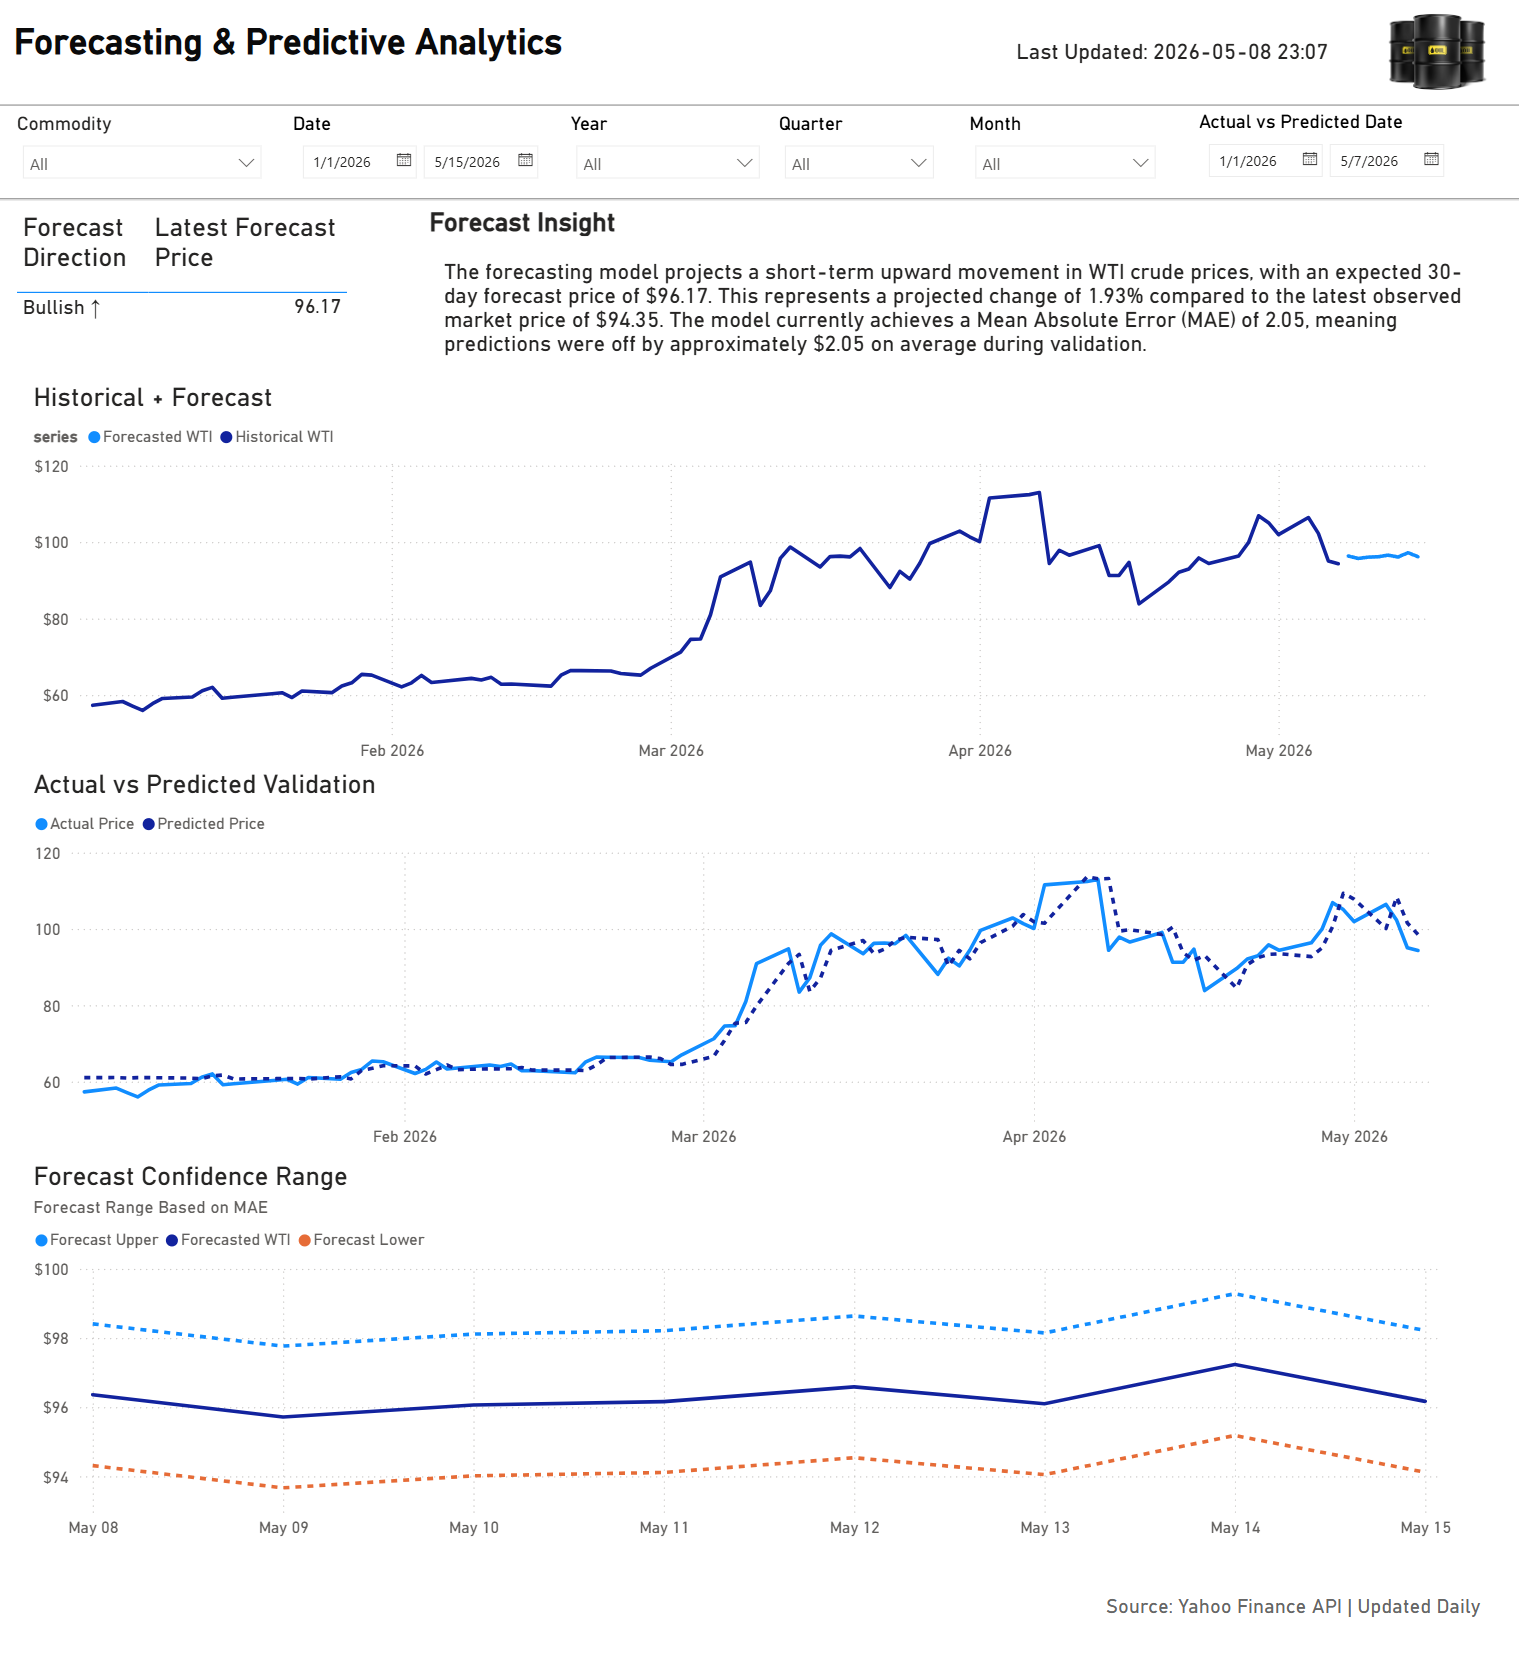

Layout of this report page (visuals, bound fields, positions):
{"tool":"powerbi","page":{"name":"Forecasting","canvas":[1280,1400],"ordinal":4},"visuals":[{"type":"shape","box":[0,167.1,1280,1232.9],"z":0},{"type":"image","box":[1126.2,0,153.8,90],"z":1000},{"type":"shape","box":[0,0,1280,90],"z":2000},{"type":"shape","box":[0,88.8,1280,79],"z":3000},{"type":"slicer","title":"Date","fields":{"Values":["dim_forecast_date.full_date"]},"box":[242.8,94.7,218.3,63.3],"z":4000},{"type":"slicer","title":"Commodity","fields":{"Values":["dim_commodity.commodity_name"]},"box":[12,94.7,218.6,62.9],"z":5000},{"type":"textbox","title":"Forecasting & Predictive Analytics","box":[10,18.3,718.3,40],"z":6000},{"type":"slicer","title":"Year","fields":{"Values":["dim_forecast_date.year"]},"box":[473.8,95,172.5,62.5],"z":7000},{"type":"slicer","title":"Quarter","fields":{"Values":["dim_forecast_date.quarter"]},"box":[647.2,95,143.8,62.5],"z":8000},{"type":"slicer","title":"Month","fields":{"Values":["dim_forecast_date.month_name"]},"box":[806,95,170,62.5],"z":9000},{"type":"cardVisual","fields":{"Data":["Indicators.Last Refresh"]},"box":[821.2,15,331.2,57.5],"z":10000},{"type":"textbox","title":"Source: Yahoo Finance API | Updated Daily","box":[920,1330,357.1,28.6],"z":11000},{"type":"tableEx","fields":{"Values":["Indicators.Forecast Direction","Indicators.Latest Forecast Price"]},"box":[11.4,172.9,340,115.7],"z":12000},{"type":"lineChart","title":"Historical + Forecast","fields":{"Category":["wti_historical_forecast.price_date.Variation.Date Hierarchy.Year"],"Y":["Sum(wti_historical_forecast.price)"],"Series":["wti_historical_forecast.series"]},"box":[25.7,320,1191.4,321.4],"z":13000},{"type":"lineChart","title":"Actual vs Predicted Validation","fields":{"Category":["fct_wti_model_validation.validation_date"],"Y":["Sum(fct_wti_model_validation.actual_price)","Sum(fct_wti_model_validation.predicted_price)"]},"box":[25.7,642.8,1191.4,321],"z":14000},{"type":"slicer","title":"Actual vs Predicted Date","fields":{"Values":["fct_wti_model_validation.validation_date"]},"box":[997.1,94.3,218.6,64.3],"z":15000},{"type":"lineChart","title":"Forecast Confidence Range","fields":{"Category":["fct_wti_forecast.forecast_date"],"Y":["Indicators.Forecast Upper","Indicators.Forecasted WTI","Indicators.Forecast Lower"]},"box":[25.7,969.4,1191.4,321],"z":15001},{"type":"cardVisual","title":"Forecast Insight","fields":{"Data":["Indicators.Forecast Insight"]},"box":[355.7,174.3,911.4,177.1],"z":15002}]}

Visuals, with their boxes in screenshot pixels (x1, y1, x2, y2), scaled from the page's 1280x1400 canvas onto the 1519x1663 screenshot:
shape: detection(0, 198, 1518, 1662)
image: detection(1336, 0, 1518, 107)
shape: detection(0, 0, 1518, 107)
shape: detection(0, 105, 1518, 199)
"Date" slicer: detection(288, 112, 547, 188)
"Commodity" slicer: detection(14, 112, 274, 187)
"Forecasting & Predictive Analytics" textbox: detection(12, 22, 864, 69)
"Year" slicer: detection(562, 113, 767, 187)
"Quarter" slicer: detection(768, 113, 939, 187)
"Month" slicer: detection(956, 113, 1158, 187)
cardVisual - Indicators.Last Refresh: detection(975, 18, 1368, 86)
"Source: Yahoo Finance API | Updated Daily" textbox: detection(1092, 1580, 1516, 1614)
tableEx - Indicators.Forecast Direction x Indicators.Latest Forecast Price: detection(14, 205, 417, 343)
"Historical + Forecast" lineChart: detection(30, 380, 1444, 762)
"Actual vs Predicted Validation" lineChart: detection(30, 764, 1444, 1145)
"Actual vs Predicted Date" slicer: detection(1183, 112, 1443, 188)
"Forecast Confidence Range" lineChart: detection(30, 1152, 1444, 1533)
"Forecast Insight" cardVisual: detection(422, 207, 1504, 417)
